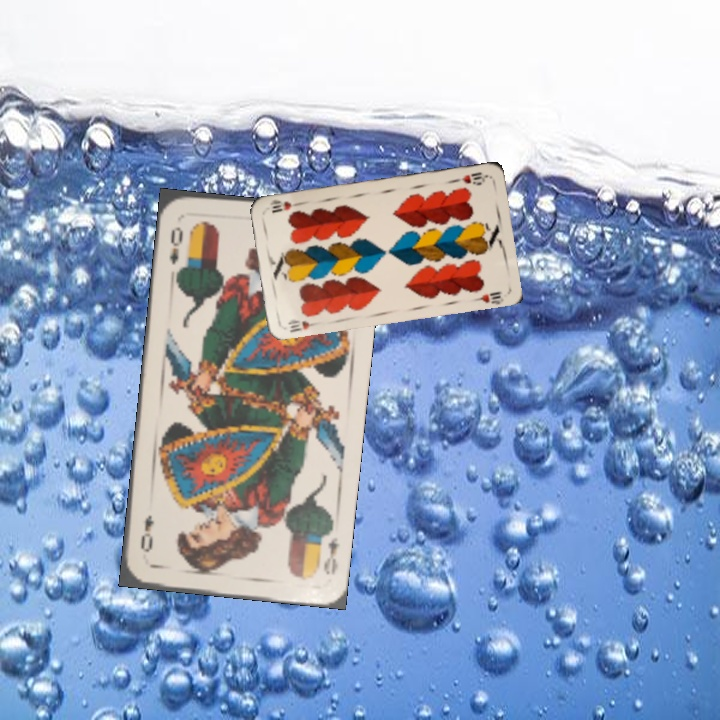EO: (319, 534, 342, 578), (166, 223, 186, 267)
H10: (284, 315, 321, 335), (449, 168, 490, 186)
